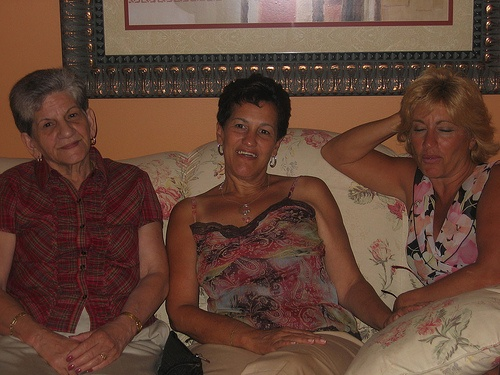head: (9, 66, 100, 172), (207, 76, 298, 182), (400, 76, 484, 187)
person: (141, 74, 410, 375), (1, 65, 176, 371), (319, 70, 495, 373)
